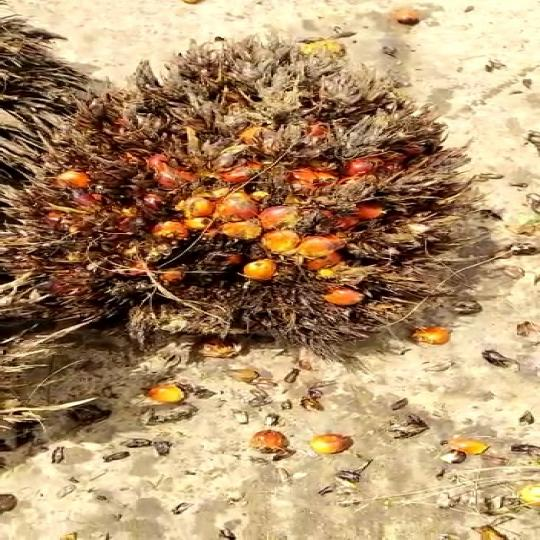terlalu masak: (29, 46, 477, 367)
